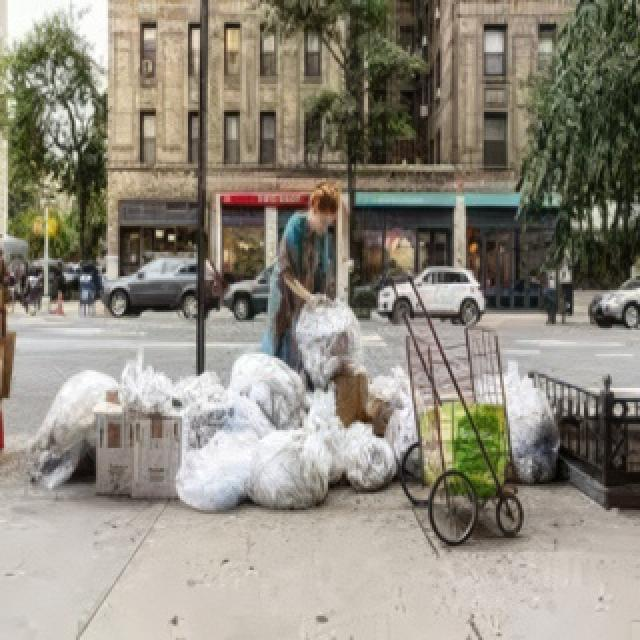Garbage_Bag: (286, 288, 366, 386), (242, 424, 330, 510), (170, 424, 256, 508), (504, 368, 560, 484)
